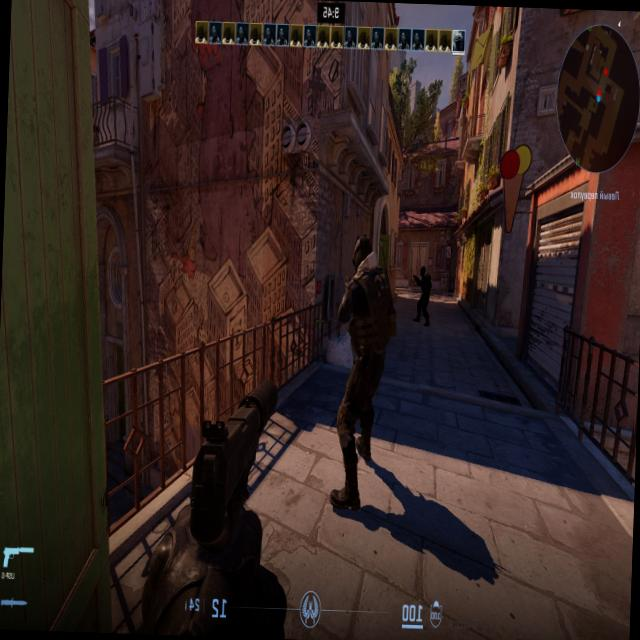CT: (338, 242, 380, 503), (416, 268, 426, 324)
CT_heat: (354, 240, 373, 281), (421, 270, 425, 280)
